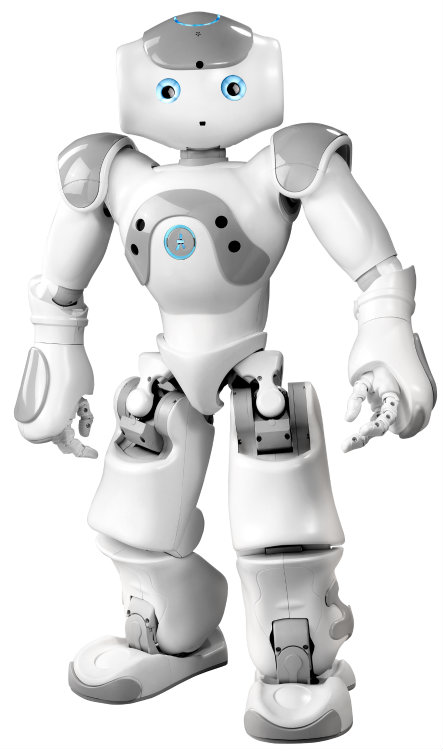nao: (11, 3, 433, 751)
